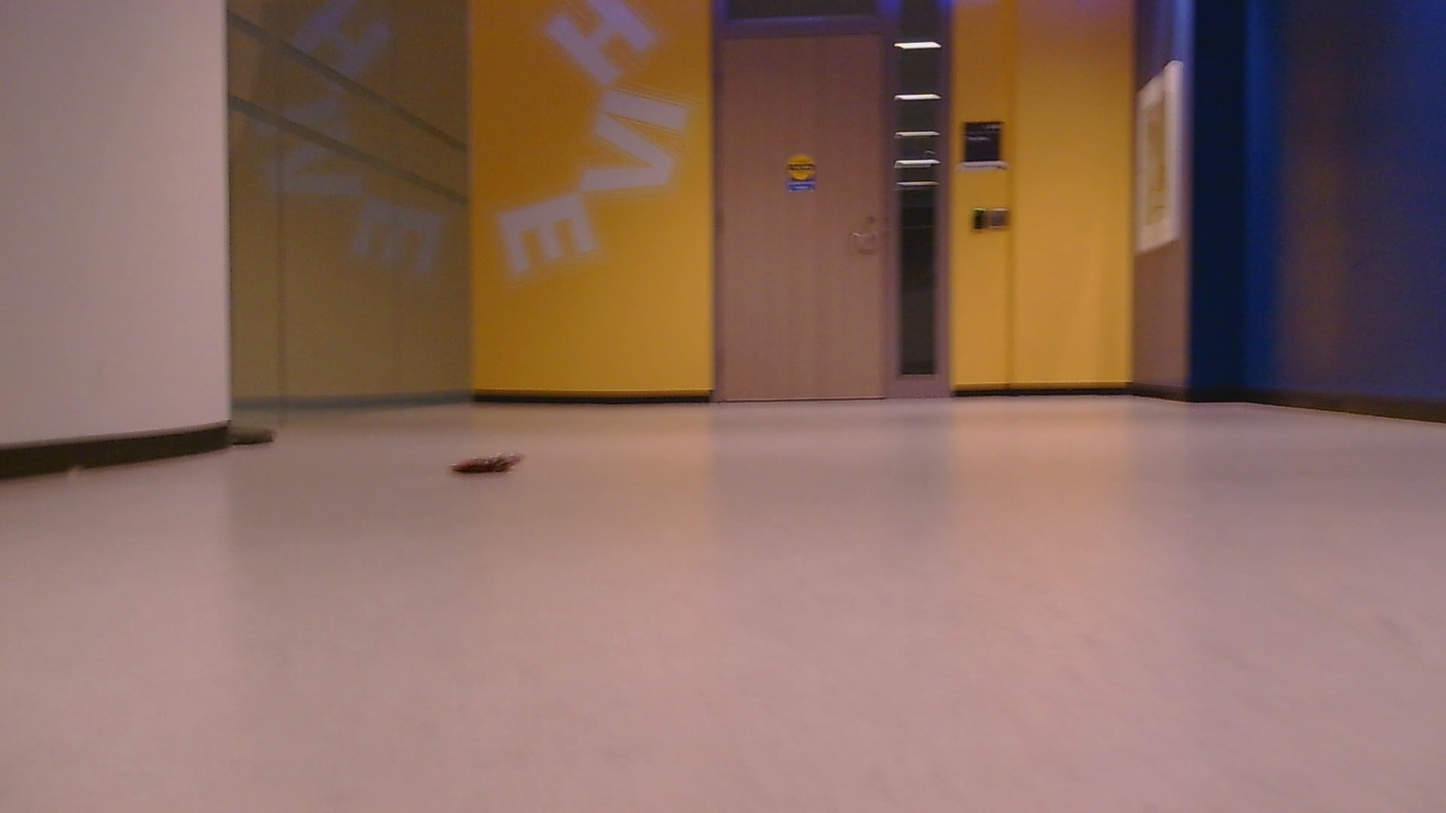can: (449, 450, 526, 477)
